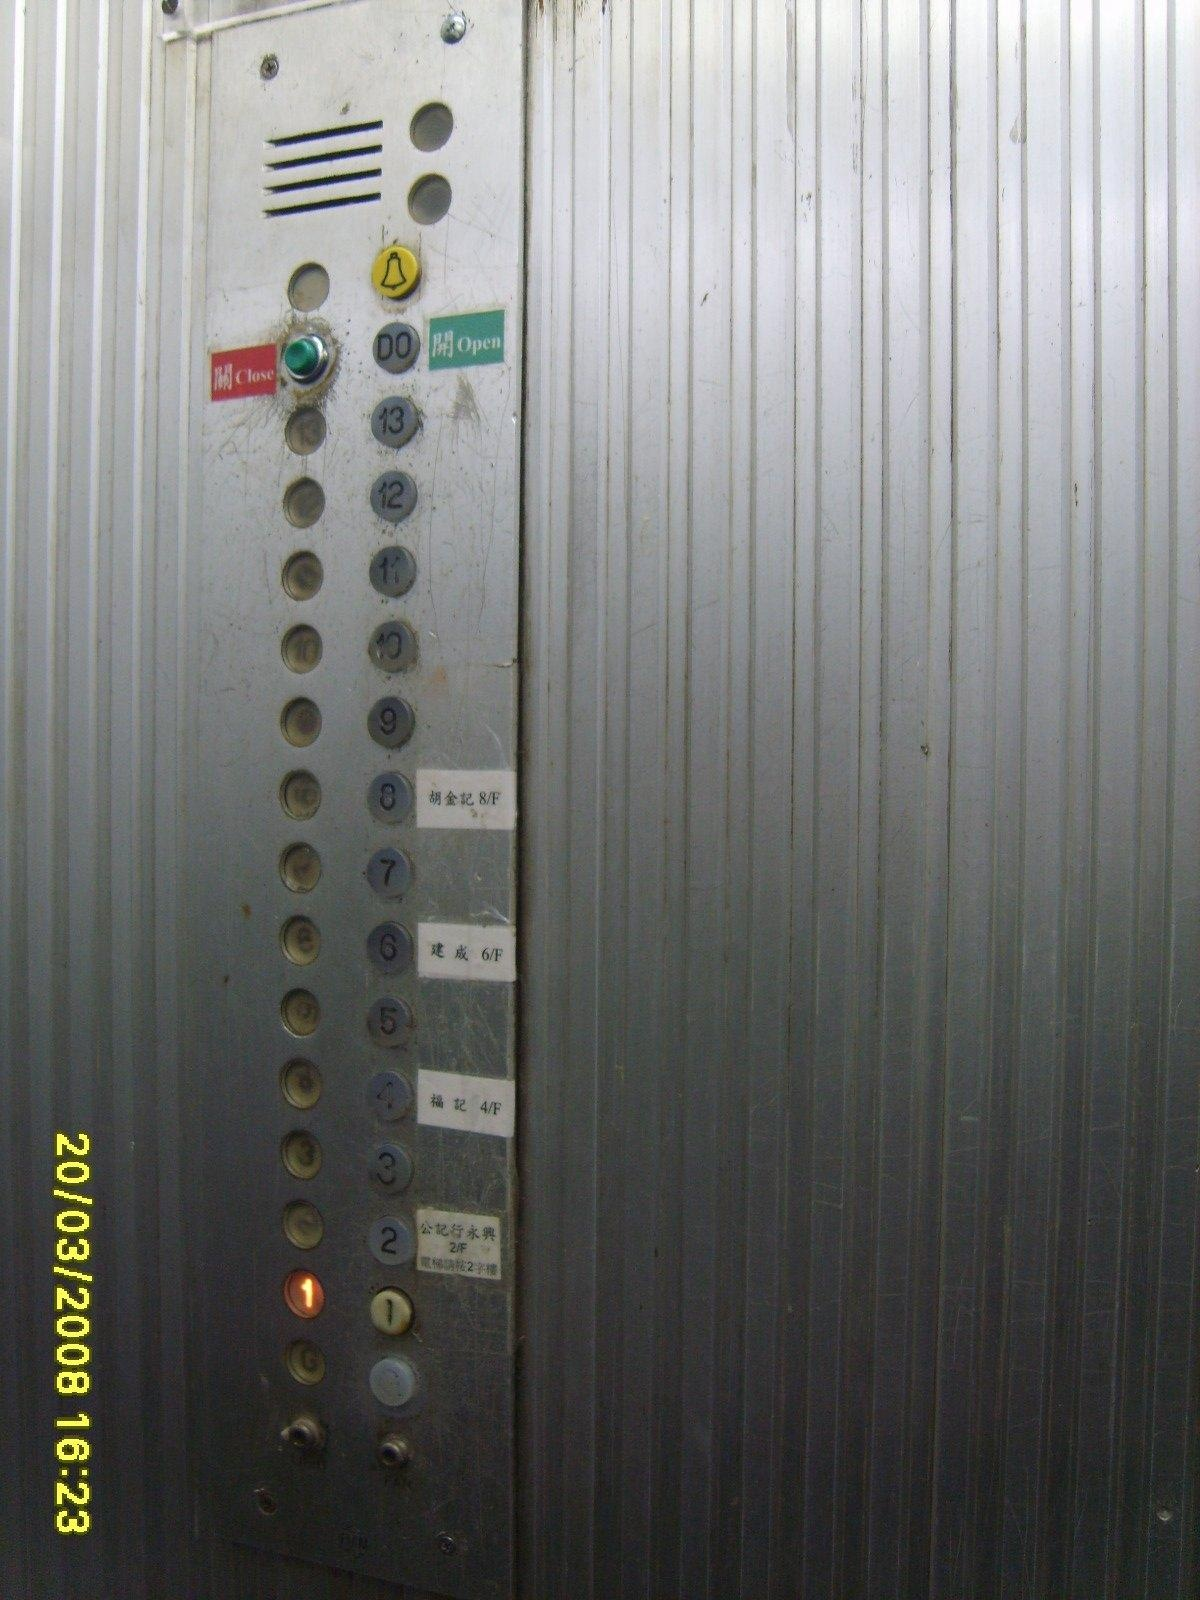1: (281, 1267, 326, 1319), (368, 1288, 413, 1335)
10: (366, 620, 417, 674), (281, 624, 324, 675)
11: (364, 544, 418, 597)
12: (368, 469, 418, 522), (280, 476, 326, 529)
13: (371, 397, 420, 450), (284, 406, 326, 459)
2: (366, 1214, 415, 1267)
3: (366, 1141, 413, 1197), (277, 1129, 324, 1177)
4: (366, 1067, 413, 1126)
5: (366, 995, 412, 1048)
6: (367, 920, 415, 976)
7: (366, 847, 415, 898)
8: (366, 771, 413, 823)
9: (364, 697, 415, 748)
DO: (372, 321, 420, 373)
G: (366, 1356, 415, 1409), (281, 1339, 326, 1386)
alarm: (369, 241, 418, 302)
blur: (277, 767, 325, 823), (276, 842, 323, 894), (280, 548, 324, 603), (279, 913, 323, 968), (280, 694, 323, 750), (279, 985, 321, 1037), (281, 1057, 323, 1110), (281, 1198, 323, 1249)
empty: (405, 100, 454, 154), (406, 170, 453, 226), (285, 261, 330, 314), (282, 333, 329, 383)
